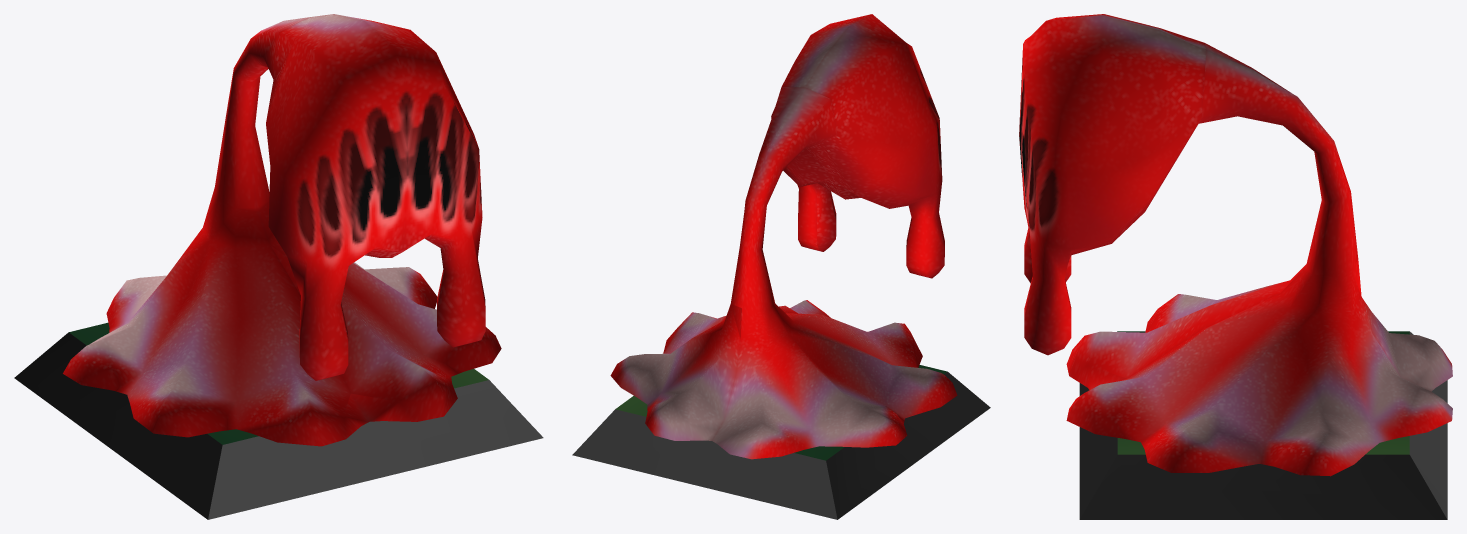
File: SlimeMini.fbx
3 renders of one model, left to right at view 1: azimuth 30°, elevation 25°; view 2: azimuth 150°, elevation 25°; view 3: azimuth 270°, elevation 25°, orthographic. The views are drawn at different scales.
Parts seen in each view (by area): view 1: SlimeMini; view 2: SlimeMini; view 3: SlimeMini.
Boxes of the visible parts, x1,y1,x2,y2 form: SlimeMini: (14,14,543,519); SlimeMini: (572,14,990,519); SlimeMini: (1019,14,1452,519).
Bounding box in the file's own units: 1.08 × 1.28 × 1.18.
